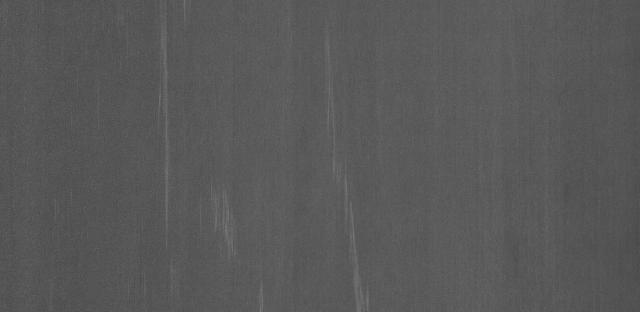silk_spot: (307, 23, 386, 309), (137, 17, 188, 242), (211, 179, 248, 255)
